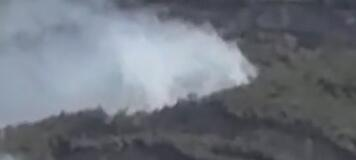yanwu: (1, 1, 261, 131)
